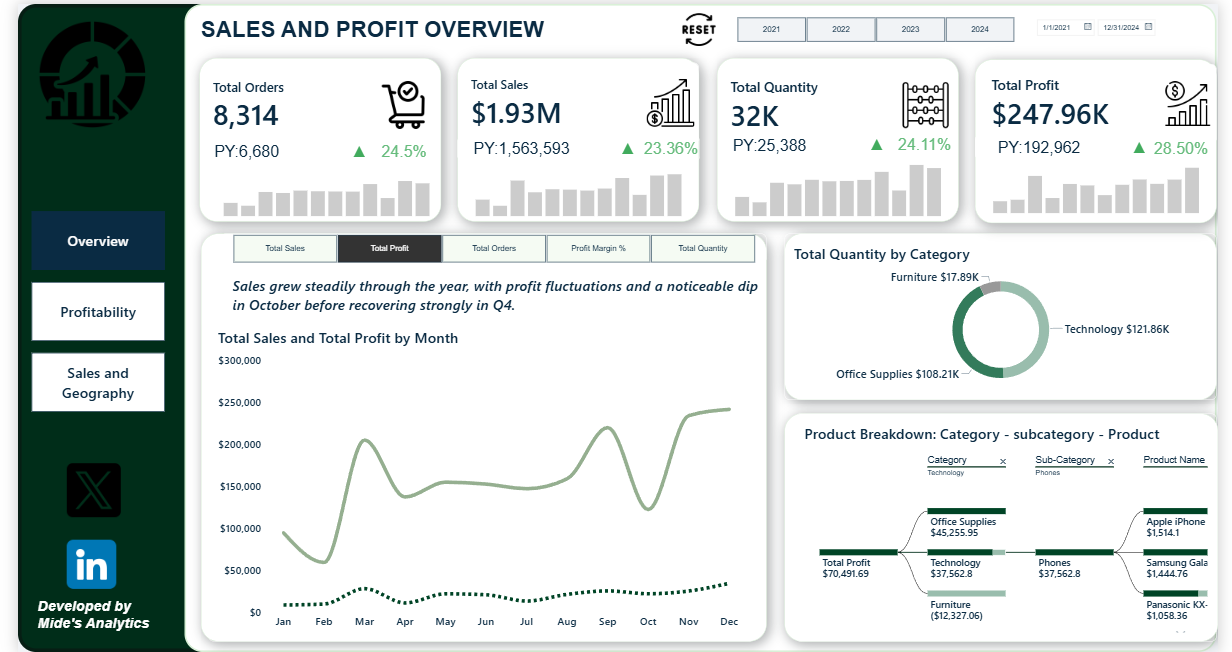

Layout of this report page (visuals, bound fields, positions):
{"tool":"powerbi","page":{"name":"Overview","canvas":[2000,1080],"ordinal":0},"visuals":[{"type":"shape","box":[0,0,337.5,1080],"z":0},{"type":"shape","box":[277.5,0,1720,1080],"z":1000},{"type":"shape","box":[302.5,90,402.5,272.5],"z":2000},{"type":"shape","box":[733.3,90,402.5,272.5],"z":3000},{"type":"shape","box":[305,382.5,942.5,680],"z":4000},{"type":"shape","box":[1164.2,90,402.5,272.5],"z":5000},{"type":"shape","box":[1277.5,382.5,720,277.5],"z":6000},{"type":"shape","box":[1595,92.5,402.5,272.5],"z":7000},{"type":"shape","box":[1277.5,682.5,722.5,380],"z":8000},{"type":"cardVisual","fields":{"Data":["Data.4_Total Orders"]},"box":[317.5,95,372.5,147.5],"z":9000},{"type":"card","fields":{"Values":["Data.4_PY Total Orders Display"]},"box":[306,224,151.7,41.7],"z":10000},{"type":"card","fields":{"Values":["Data.4_YoY Total Orders icon"]},"box":[521,224,96.7,41.7],"z":11000},{"type":"card","fields":{"Values":["Data.4_YoY Total Orders"]},"box":[594.4,225.6,96.7,41.7],"z":12000},{"type":"columnChart","fields":{"Category":["Calendar_Table.Month Name"],"Y":["Data.1_Total Sales"]},"box":[748.3,241.7,373.3,126.7],"z":13000},{"type":"cardVisual","fields":{"Data":["Data.1_Total Sales"]},"box":[747.5,97.5,387.5,135],"z":14000},{"type":"card","fields":{"Values":["Data.1_PY Sales Display"]},"box":[733.3,220,213.3,41.7],"z":15000},{"type":"card","fields":{"Values":["Data.1_YoY Sales icon"]},"box":[966.7,220,96.7,41.7],"z":16000},{"type":"card","fields":{"Values":["Data.1_YoY Sales"]},"box":[1040,220,96.7,41.7],"z":17000},{"type":"columnChart","fields":{"Y":["Data.4_Total Orders"],"Category":["Calendar_Table.Month Name"]},"box":[326.7,241.7,373.3,126.7],"z":18000},{"type":"cardVisual","fields":{"Data":["Data.2_Total Quantity"]},"box":[1180,101.2,380,132.5],"z":19000},{"type":"card","fields":{"Values":["Data.2_PY Quantity Display"]},"box":[1167.5,213.8,170,40],"z":20000},{"type":"card","fields":{"Values":["Data.2_YoY Quantity icon"]},"box":[1381.7,211.2,96.7,41.7],"z":21000},{"type":"card","fields":{"Values":["Data.2_YoY Quantity"]},"box":[1461.7,211.2,96.7,41.7],"z":22000},{"type":"columnChart","fields":{"Category":["Calendar_Table.Month Name"],"Y":["Data.2_Total Quantity"]},"box":[1180,241.7,373.3,126.7],"z":23000},{"type":"cardVisual","fields":{"Data":["Data.3_Total Profit"]},"box":[1615,100,382.5,132.5],"z":24000},{"type":"card","fields":{"Values":["Data.3_PY Profit Display"]},"box":[1595,218.3,213.3,41.7],"z":25000},{"type":"card","fields":{"Values":["Data.3_YoY Profit icon"]},"box":[1820,218.3,96.7,41.7],"z":26000},{"type":"card","fields":{"Values":["Data.3_YoY Profit"]},"box":[1890,220,96.7,41.7],"z":27000},{"type":"columnChart","fields":{"Category":["Calendar_Table.Month Name"],"Y":["Data.3_Total Profit"]},"box":[1610,236.7,373.3,126.7],"z":28000},{"type":"slicer","fields":{"Values":["Calendar_Table.Date"]},"box":[1690,20,292.5,45],"z":29000},{"type":"slicer","fields":{"Values":["Calendar_Table.Year"]},"box":[1177.5,20,502.5,45],"z":30000},{"type":"lineChart","title":"Total Sales and Total Profit by Month","fields":{"Category":["Calendar_Table.Month Name"],"Y":["Data.1_Total Sales","Data.3_Total Profit"]},"box":[317.5,522.5,910,540],"z":31000},{"type":"slicer","fields":{"Values":["Dynamic Measure.Dynamic Measure"]},"box":[337.5,382.5,910,50],"z":32000},{"type":"donutChart","title":"Total Quantity by Category","fields":{"Y":["Data.3_Total Profit"],"Category":["Data.Category"]},"box":[1277.5,382.5,720,277.5],"z":33000},{"type":"decompositionTreeVisual","title":"Product Breakdown: Category - subcategory - Product","fields":{"Analyze":["Data.3_Total Profit"],"ExplainBy":["Data.Category","Data.Sub-Category","Data.Product Name"]},"box":[1295,682.5,702.5,380],"z":34000},{"type":"textbox","box":[305,20,662.5,45],"z":35000},{"type":"image","box":[32.5,877.5,180,112.5],"z":36000},{"type":"textbox","box":[32.5,990,202.5,90],"z":37000},{"type":"image","box":[1077.5,0,115,85],"z":38000},{"type":"image","box":[0,750,252.5,120],"z":39000},{"type":"textbox","box":[357.5,452.5,890,70],"z":40000},{"type":"pageNavigator","box":[7.5,330,252.5,365],"z":41000},{"type":"image","box":[15,2.5,217.5,230],"z":42000}]}

Visuals, with their boxes in screenshot pixels (x1, y1, x2, y2), scaled from the page's 2000x1080 canvas onto the 1232x652 screenshot:
shape: region(0, 0, 208, 651)
shape: region(171, 0, 1230, 651)
shape: region(186, 54, 434, 219)
shape: region(452, 54, 700, 219)
shape: region(188, 231, 768, 641)
shape: region(717, 54, 965, 219)
shape: region(787, 231, 1230, 398)
shape: region(983, 56, 1230, 220)
shape: region(787, 412, 1231, 641)
cardVisual - Data.4_Total Orders: region(196, 57, 425, 146)
card - Data.4_PY Total Orders Display: region(188, 135, 282, 160)
card - Data.4_YoY Total Orders icon: region(321, 135, 381, 160)
card - Data.4_YoY Total Orders: region(366, 136, 426, 161)
columnChart - Calendar_Table.Month Name x Data.1_Total Sales: region(461, 146, 691, 222)
cardVisual - Data.1_Total Sales: region(460, 59, 699, 140)
card - Data.1_PY Sales Display: region(452, 133, 583, 158)
card - Data.1_YoY Sales icon: region(595, 133, 655, 158)
card - Data.1_YoY Sales: region(641, 133, 700, 158)
columnChart - Data.4_Total Orders x Calendar_Table.Month Name: region(201, 146, 431, 222)
cardVisual - Data.2_Total Quantity: region(727, 61, 961, 141)
card - Data.2_PY Quantity Display: region(719, 129, 824, 153)
card - Data.2_YoY Quantity icon: region(851, 128, 911, 153)
card - Data.2_YoY Quantity: region(900, 128, 960, 153)
columnChart - Calendar_Table.Month Name x Data.2_Total Quantity: region(727, 146, 957, 222)
cardVisual - Data.3_Total Profit: region(995, 60, 1230, 140)
card - Data.3_PY Profit Display: region(983, 132, 1114, 157)
card - Data.3_YoY Profit icon: region(1121, 132, 1181, 157)
card - Data.3_YoY Profit: region(1164, 133, 1224, 158)
columnChart - Calendar_Table.Month Name x Data.3_Total Profit: region(992, 143, 1222, 219)
slicer - Calendar_Table.Date: region(1041, 12, 1221, 39)
slicer - Calendar_Table.Year: region(725, 12, 1035, 39)
"Total Sales and Total Profit by Month" lineChart: region(196, 315, 756, 641)
slicer - Dynamic Measure.Dynamic Measure: region(208, 231, 768, 261)
"Total Quantity by Category" donutChart: region(787, 231, 1230, 398)
"Product Breakdown: Category - subcategory - Product" decompositionTreeVisual: region(798, 412, 1230, 641)
textbox: region(188, 12, 596, 39)
image: region(20, 530, 131, 598)
textbox: region(20, 598, 145, 651)
image: region(664, 0, 735, 51)
image: region(0, 453, 156, 525)
textbox: region(220, 273, 768, 315)
pageNavigator: region(5, 199, 160, 420)
image: region(9, 2, 143, 140)
